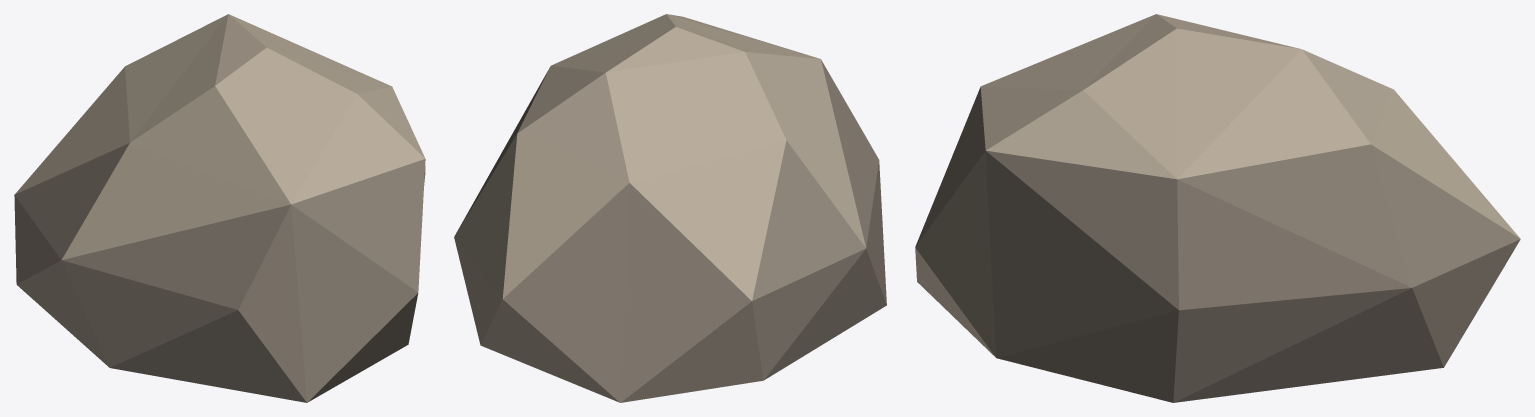
3 renders of one model, left to right at view 1: azimuth 30°, elevation 25°; view 2: azimuth 150°, elevation 25°; view 3: azimuth 270°, elevation 25°, orthographic. The views are drawn at different scales.
Parts seen in each view (by area): view 1: G21; view 2: G21; view 3: G21.
Part boxes in pixels (x1=…): G21: x1=14, y1=14, x2=425, y2=402; G21: x1=454, y1=14, x2=886, y2=402; G21: x1=915, y1=14, x2=1520, y2=402.
Bounding box in the file's own units: 2.2 × 1.5 × 2.8.
